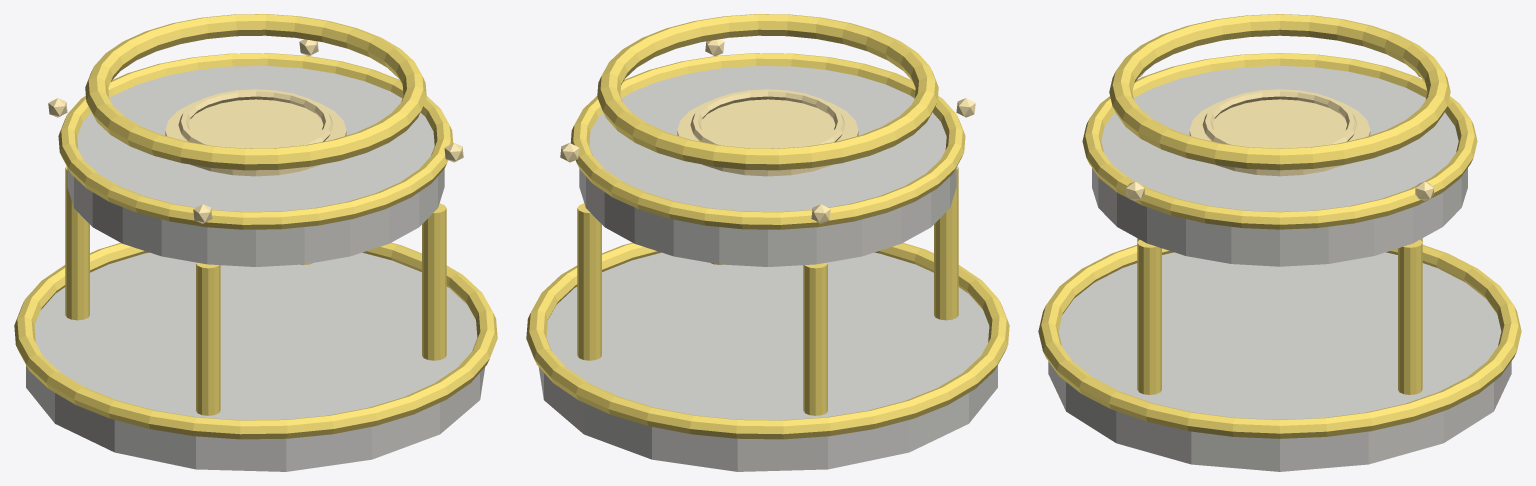
Rendered from tianting_altar.fbx.
3 renders of one model, left to right at view 1: azimuth 30°, elevation 25°; view 2: azimuth 150°, elevation 25°; view 3: azimuth 270°, elevation 25°, orthographic.
Visible parts, largest first — view 1: TT_al_pedestal, TT_al_disk, TT_al_halo, TT_al_pedestal_rim, TT_al_disk_rim, TT_al_rune, TT_al_pillar0, TT_al_pillar1, TT_al_pillar2, TT_al_rune_ring; view 2: TT_al_pedestal, TT_al_disk, TT_al_halo, TT_al_pedestal_rim, TT_al_disk_rim, TT_al_rune, TT_al_pillar2, TT_al_pillar3, TT_al_pillar0, TT_al_rune_ring; view 3: TT_al_pedestal, TT_al_disk, TT_al_halo, TT_al_pedestal_rim, TT_al_disk_rim, TT_al_rune, TT_al_pillar1, TT_al_pillar3, TT_al_rune_ring.
Boxes of the visible parts, <box> form: TT_al_pedestal: <box>26,252,485,471</box>; TT_al_disk: <box>67,66,444,266</box>; TT_al_halo: <box>85,14,426,170</box>; TT_al_pedestal_rim: <box>14,242,497,439</box>; TT_al_disk_rim: <box>58,53,453,229</box>; TT_al_rune: <box>165,99,346,176</box>; TT_al_pillar0: <box>196,262,220,415</box>; TT_al_pillar1: <box>422,203,446,360</box>; TT_al_pillar2: <box>65,166,89,320</box>; TT_al_rune_ring: <box>178,89,333,146</box>; TT_al_pedestal: <box>538,252,997,471</box>; TT_al_disk: <box>579,66,956,266</box>; TT_al_halo: <box>597,14,938,170</box>; TT_al_pedestal_rim: <box>526,242,1009,439</box>; TT_al_disk_rim: <box>570,53,965,229</box>; TT_al_rune: <box>677,99,858,176</box>; TT_al_pillar2: <box>803,262,827,415</box>; TT_al_pillar3: <box>577,203,601,360</box>; TT_al_pillar0: <box>934,166,958,320</box>; TT_al_rune_ring: <box>690,89,845,146</box>; TT_al_pedestal: <box>1048,252,1511,471</box>; TT_al_disk: <box>1092,65,1467,266</box>; TT_al_halo: <box>1109,14,1450,170</box>; TT_al_pedestal_rim: <box>1038,245,1521,438</box>; TT_al_disk_rim: <box>1082,53,1477,229</box>; TT_al_rune: <box>1189,99,1370,176</box>; TT_al_pillar1: <box>1137,240,1161,394</box>; TT_al_pillar3: <box>1398,240,1422,394</box>; TT_al_rune_ring: <box>1202,89,1357,146</box>.
Bounding box in the file's own units: 6.68 × 4.46 × 6.68.
